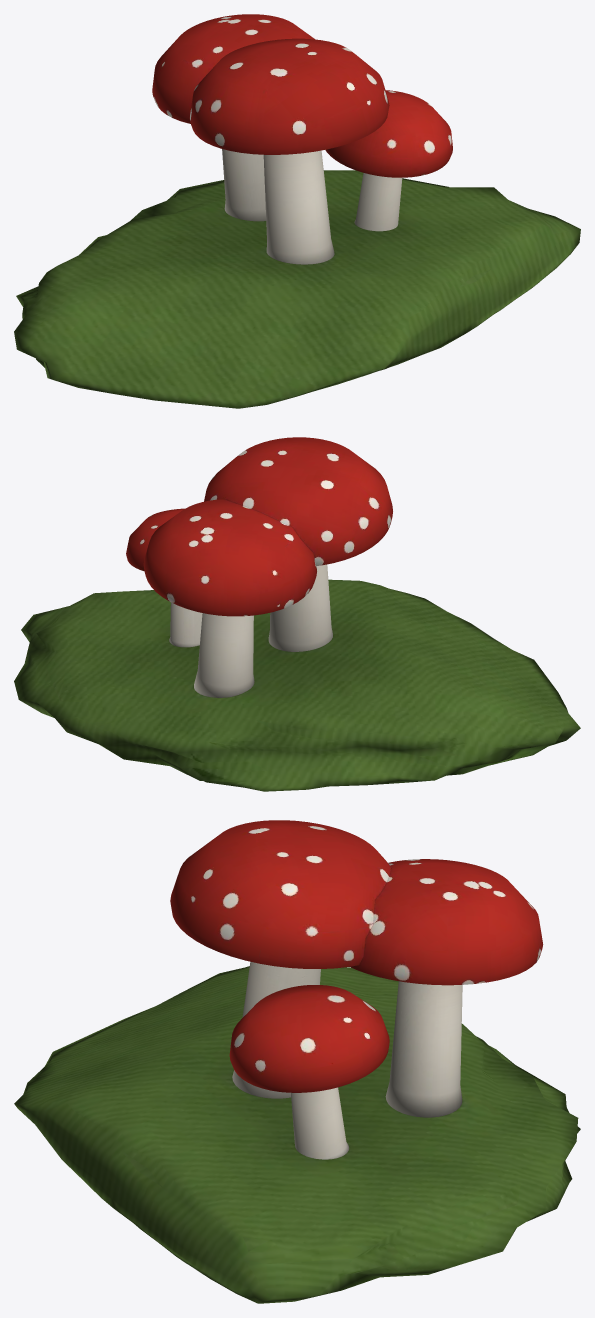
The model's file is fly-agaric.glb.
The picture shows the model from 3 angles, top to bottom: view 1: azimuth 30°, elevation 25°; view 2: azimuth 150°, elevation 25°; view 3: azimuth 270°, elevation 25°; orthographic projection. The views are drawn at different scales.
Visible parts, largest first — view 1: moss, cap, stem; view 2: moss, cap, stem; view 3: moss, cap, stem.
Part boxes in pixels (x1=…): moss: x1=14, y1=170, x2=580, y2=408; cap: x1=152, y1=14, x2=452, y2=177; stem: x1=222, y1=149, x2=402, y2=264; moss: x1=14, y1=579, x2=580, y2=791; cap: x1=126, y1=437, x2=392, y2=616; stem: x1=169, y1=564, x2=332, y2=697; moss: x1=14, y1=966, x2=580, y2=1303; cap: x1=170, y1=820, x2=543, y2=1092; stem: x1=232, y1=961, x2=462, y2=1159.
Size of the model in its own units: 0.3836 by 0.165 by 0.2798.
Materials: 4 (4 with a texture image).
